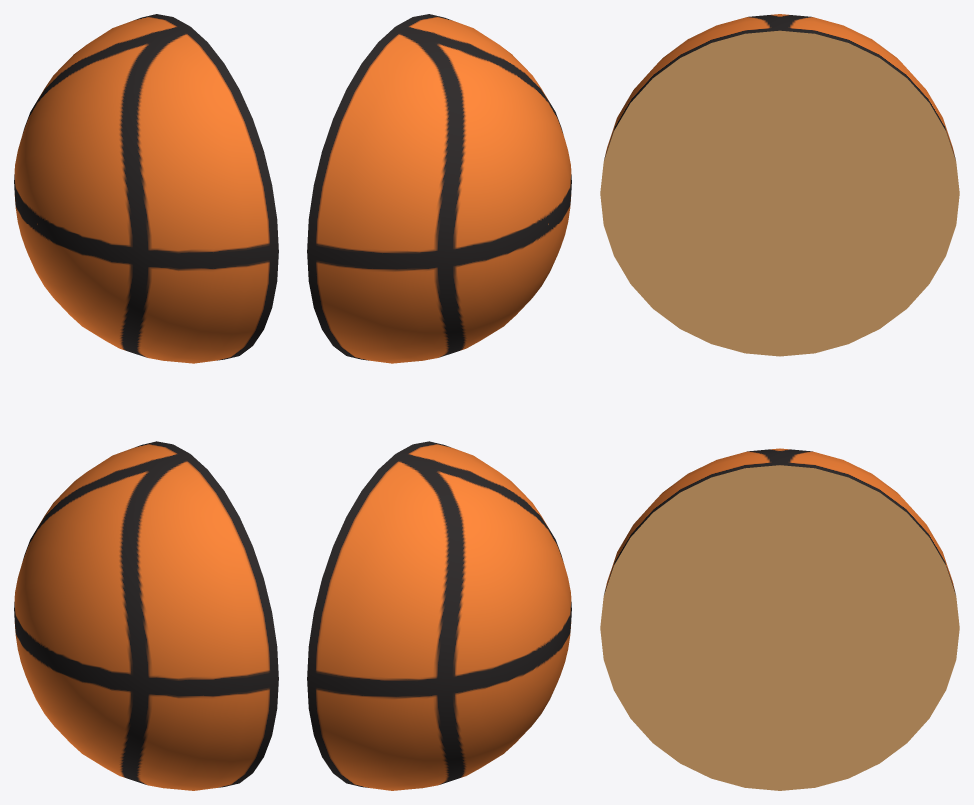
The model's file is vfx-ball-halves.glb.
3 views of the same model, side by side, from view 1: azimuth 30°, elevation 25°; view 2: azimuth 150°, elevation 25°; view 3: azimuth 270°, elevation 25° (orthographic).
Parts seen in each view (by area): view 1: HalfB, HalfA; view 2: HalfB, HalfA; view 3: HalfA, HalfB.
Boxes of the visible parts, x1,y1,x2,y2 form: HalfB: (14, 441, 278, 790); HalfA: (14, 14, 278, 363); HalfB: (307, 441, 571, 790); HalfA: (307, 14, 571, 363); HalfA: (600, 14, 959, 356); HalfB: (600, 448, 959, 790).
Bounding box in the file's own units: 0.225 × 1.05 × 0.45.
Materials: 1 (1 with a texture image).
